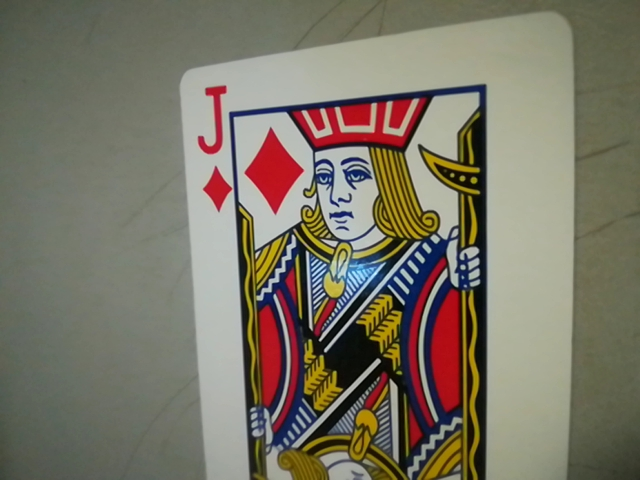fk j: (184, 78, 236, 213)
